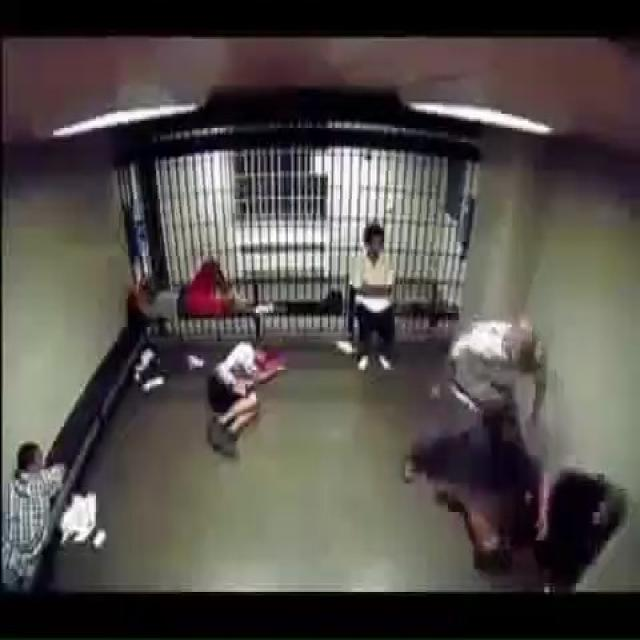fight: (408, 314, 558, 570)
